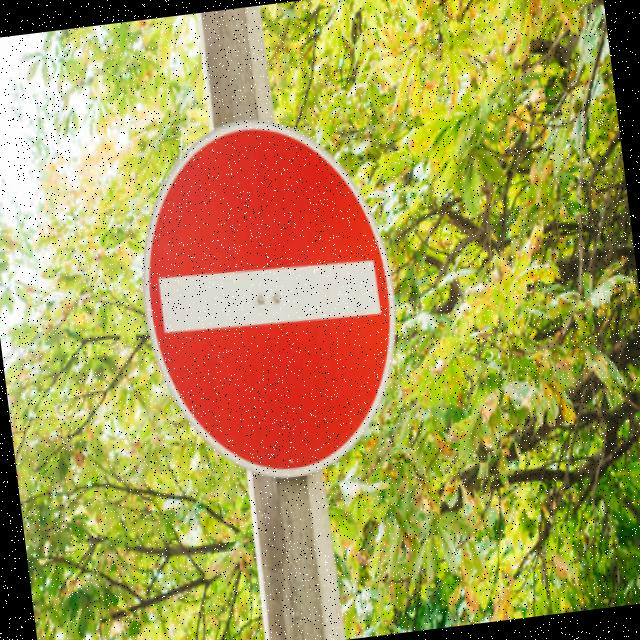do_not_enter: (116, 99, 421, 496)
